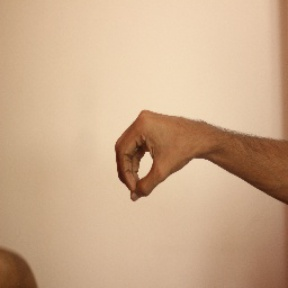O: (112, 105, 201, 206)
